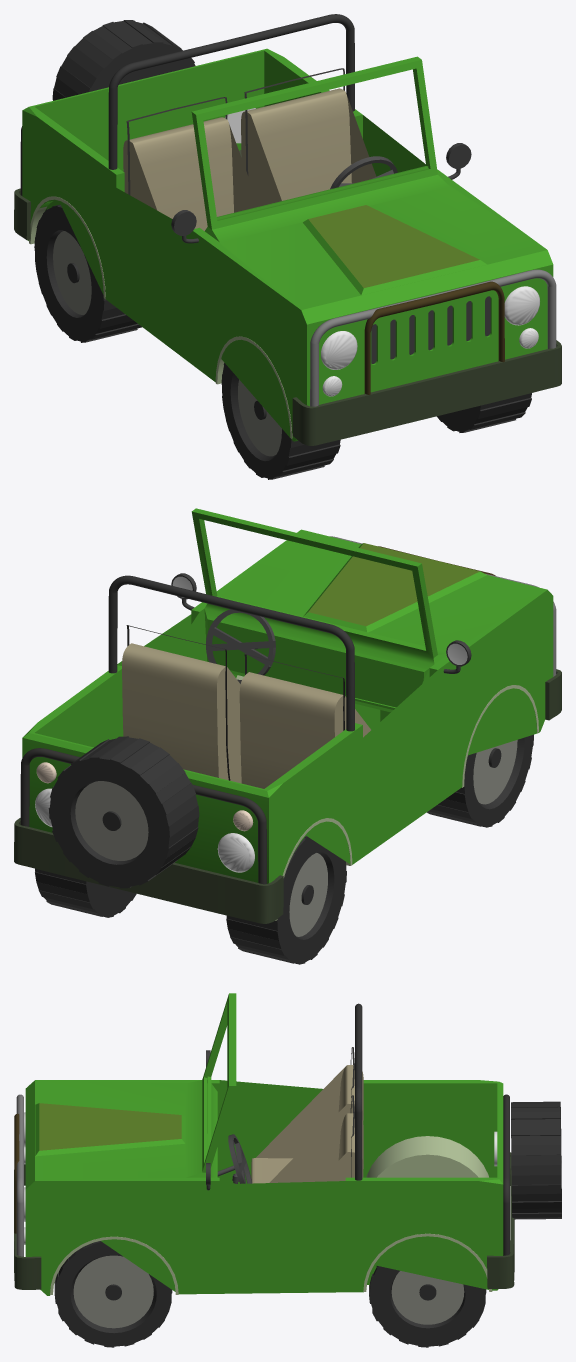
Rendered from jeep1.fbx.
The picture shows the model from 3 angles, top to bottom: view 1: azimuth 30°, elevation 25°; view 2: azimuth 150°, elevation 25°; view 3: azimuth 270°, elevation 25°; orthographic projection. The views are drawn at different scales.
Visible parts, largest first — view 1: Gövde, Loft_2, Çamurluk, Loft; view 2: Gövde, Loft, Sweep, Çamurluk, Loft_2; view 3: Gövde, Çamurluk, Loft, Sweep, Loft_2.
Part boxes in pixels (x1,y1,x2,y2): Gövde: [22, 14, 556, 479]; Loft_2: [292, 340, 561, 445]; Çamurluk: [29, 150, 292, 438]; Loft: [14, 188, 30, 239]; Gövde: [22, 508, 556, 964]; Loft: [14, 818, 283, 923]; Sweep: [20, 748, 266, 884]; Çamurluk: [236, 675, 538, 920]; Loft_2: [545, 669, 561, 720]; Gövde: [14, 993, 561, 1347]; Çamurluk: [50, 1136, 492, 1294]; Loft: [487, 1152, 514, 1288]; Sweep: [503, 1094, 509, 1255]; Loft_2: [14, 1164, 41, 1289].
Bounding box in the file's own units: 314 × 310 × 596.
